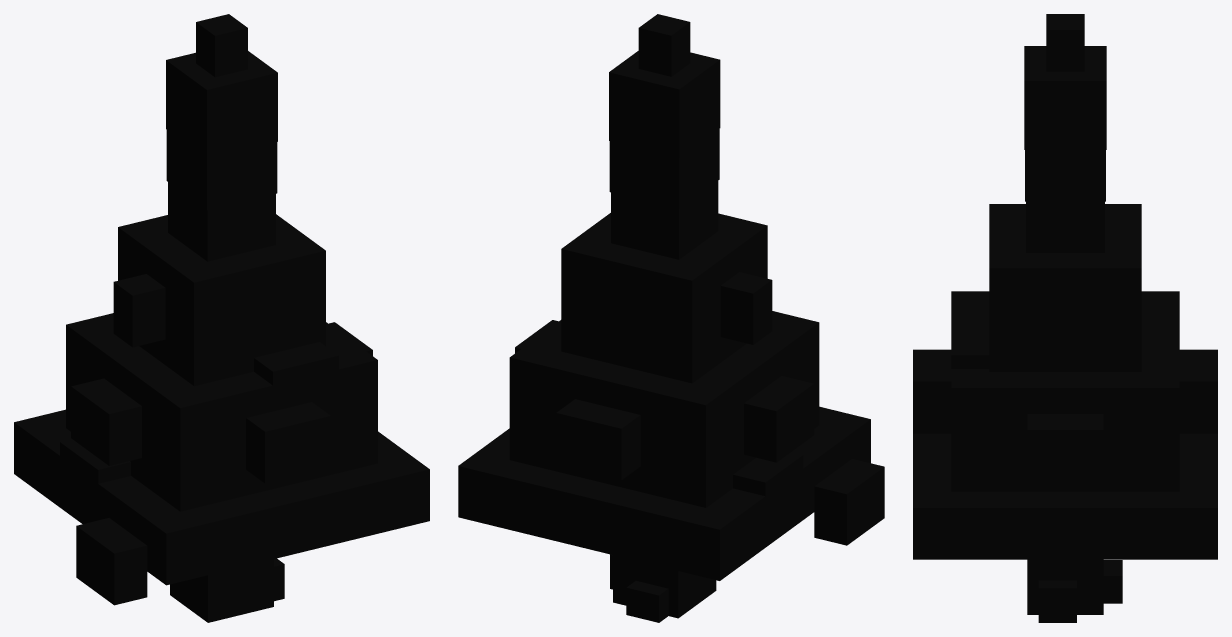
File: CharredPineSmall.obj
3 views of the same model, side by side, from view 1: azimuth 30°, elevation 25°; view 2: azimuth 150°, elevation 25°; view 3: azimuth 270°, elevation 25° (orthographic).
Parts seen in each view (by area): view 1: CharredPineSmall; view 2: CharredPineSmall; view 3: CharredPineSmall.
Part boxes in pixels (box(x1,y1,x2,y2)): CharredPineSmall: box(14, 14, 429, 622); CharredPineSmall: box(458, 14, 884, 622); CharredPineSmall: box(913, 14, 1217, 622).
Size of the model in its own units: 9 by 16.7 by 8.
